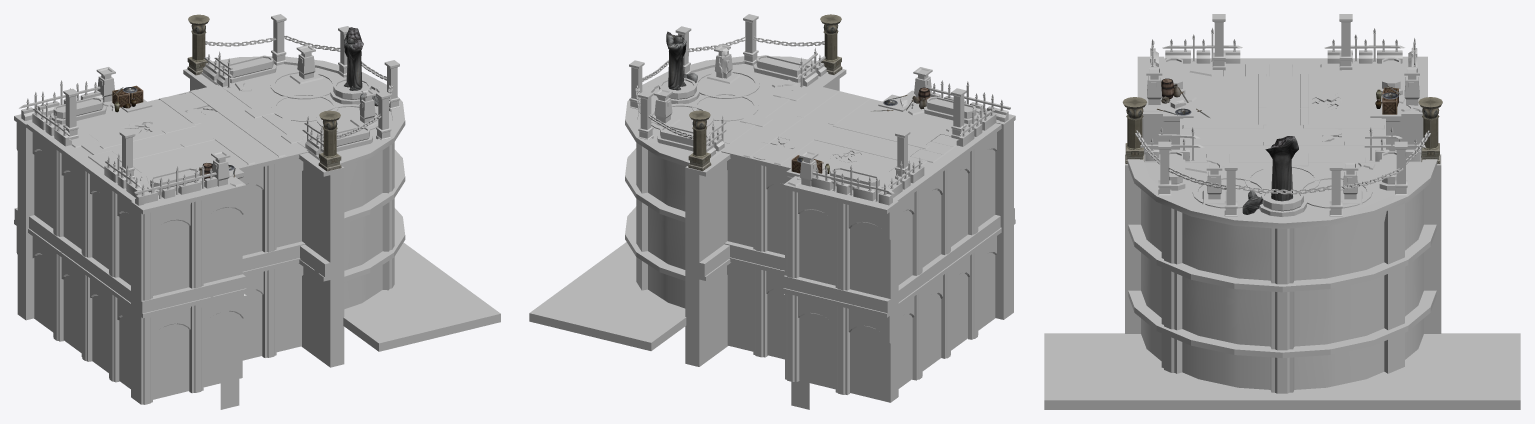
Rendered from Cell3UD.fbx.
3 views of the same model, side by side, from view 1: azimuth 30°, elevation 25°; view 2: azimuth 150°, elevation 25°; view 3: azimuth 270°, elevation 25° (orthographic). The views are drawn at different scales.
Parts seen in each view (by area): view 1: Cell3UD; view 2: Cell3UD; view 3: Cell3UD.
Part boxes in pixels (x1,y1,x2,y2): Cell3UD: (14, 14, 500, 409); Cell3UD: (529, 14, 1015, 409); Cell3UD: (1044, 14, 1520, 409).
Bounding box in the file's own units: 27.4 × 24.41 × 31.52.
